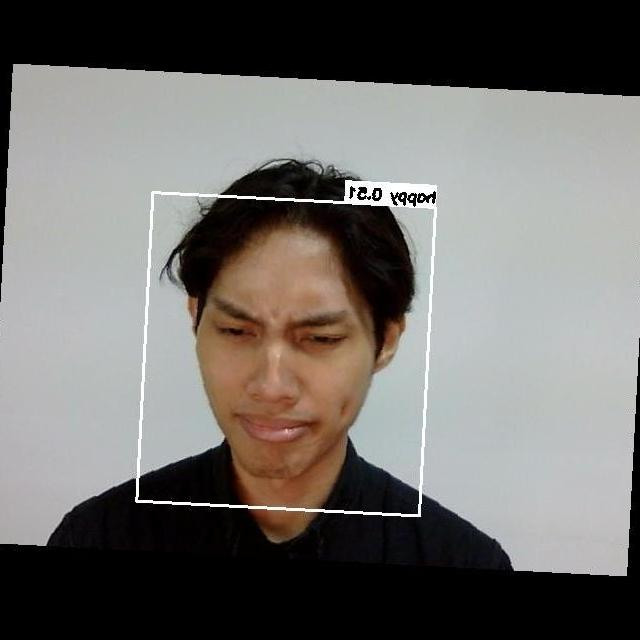Disgust: (192, 275, 362, 463)
